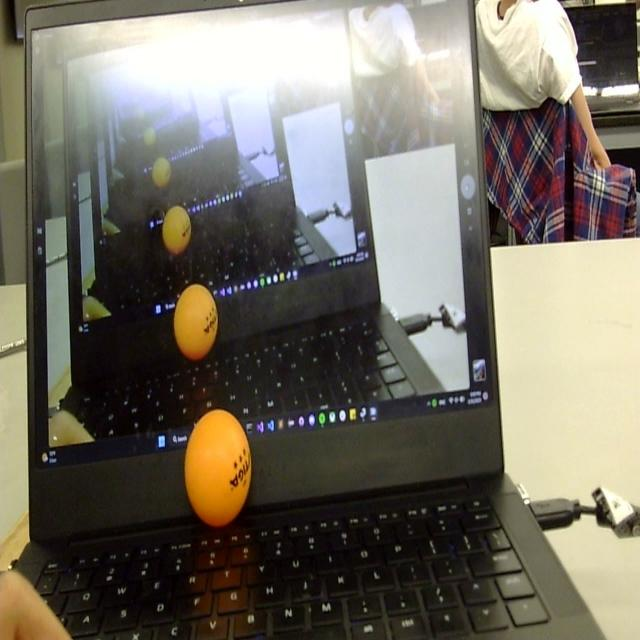ball: (184, 409, 254, 531), (171, 281, 220, 364), (162, 200, 192, 258), (152, 152, 172, 192), (142, 121, 158, 152)
